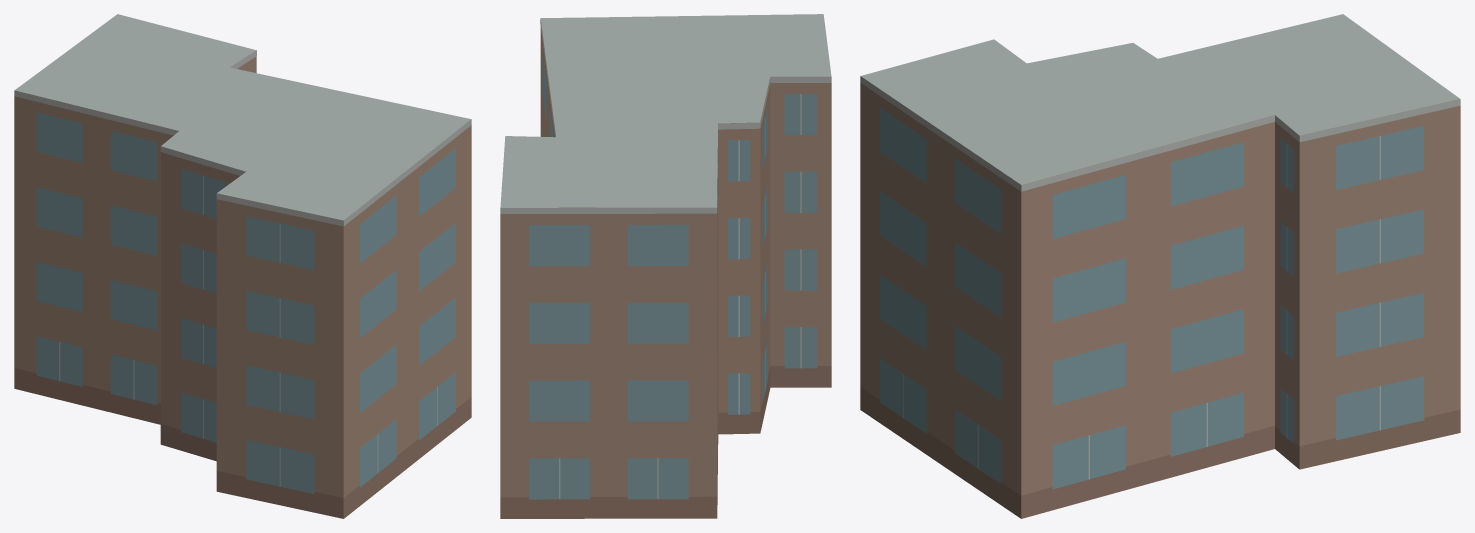
File: survey-upis-32462443.glb
The picture shows the model from 3 angles, left to right: view 1: azimuth 30°, elevation 25°; view 2: azimuth 150°, elevation 25°; view 3: azimuth 270°, elevation 25°; orthographic projection. The views are drawn at different scales.
Visible parts, largest first — view 1: survey-upis-32462443.tmp; view 2: survey-upis-32462443.tmp; view 3: survey-upis-32462443.tmp.
Boxes of the visible parts, x1=… form: survey-upis-32462443.tmp: x1=14, y1=14, x2=471, y2=518; survey-upis-32462443.tmp: x1=500, y1=14, x2=831, y2=518; survey-upis-32462443.tmp: x1=860, y1=14, x2=1460, y2=518.
Size of the model in its own units: 13.41 by 12.2 by 19.88.
